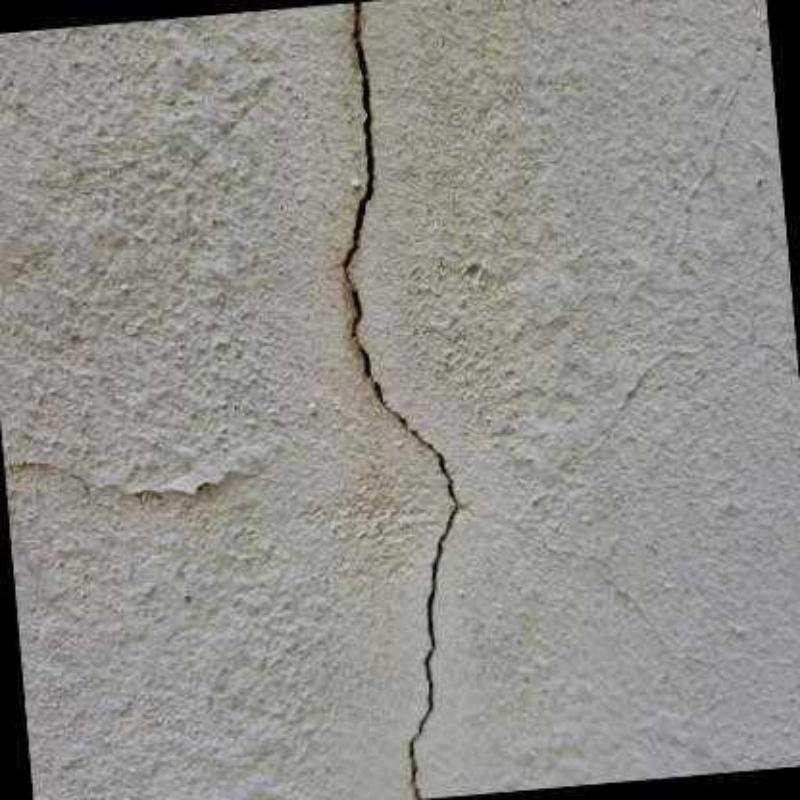pothole: (344, 2, 457, 800)
